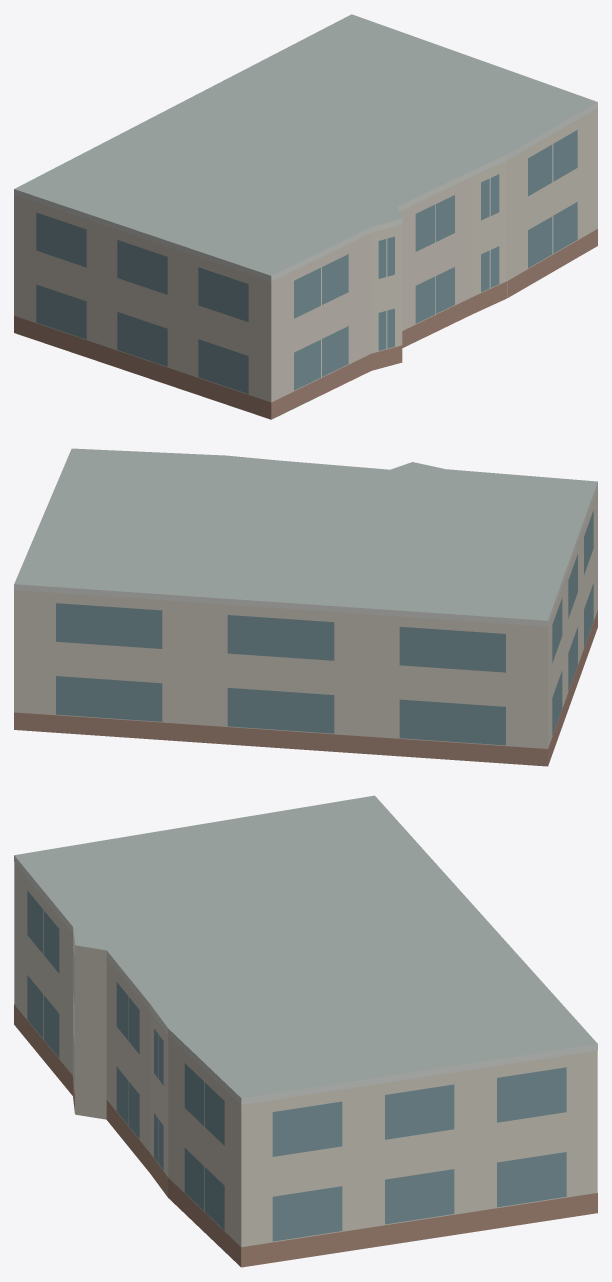
The model's file is survey-upis-32865927.glb.
3 renders of one model, top to bottom at view 1: azimuth 30°, elevation 25°; view 2: azimuth 150°, elevation 25°; view 3: azimuth 270°, elevation 25°, orthographic. The views are drawn at different scales.
Parts seen in each view (by area): view 1: survey-upis-32865927.tmp; view 2: survey-upis-32865927.tmp; view 3: survey-upis-32865927.tmp.
Boxes of the visible parts, bbox=[...] form: survey-upis-32865927.tmp: bbox=[14, 14, 597, 419]; survey-upis-32865927.tmp: bbox=[14, 448, 597, 766]; survey-upis-32865927.tmp: bbox=[14, 795, 597, 1267].
Size of the model in its own units: 23.4 by 6.1 by 19.07.
